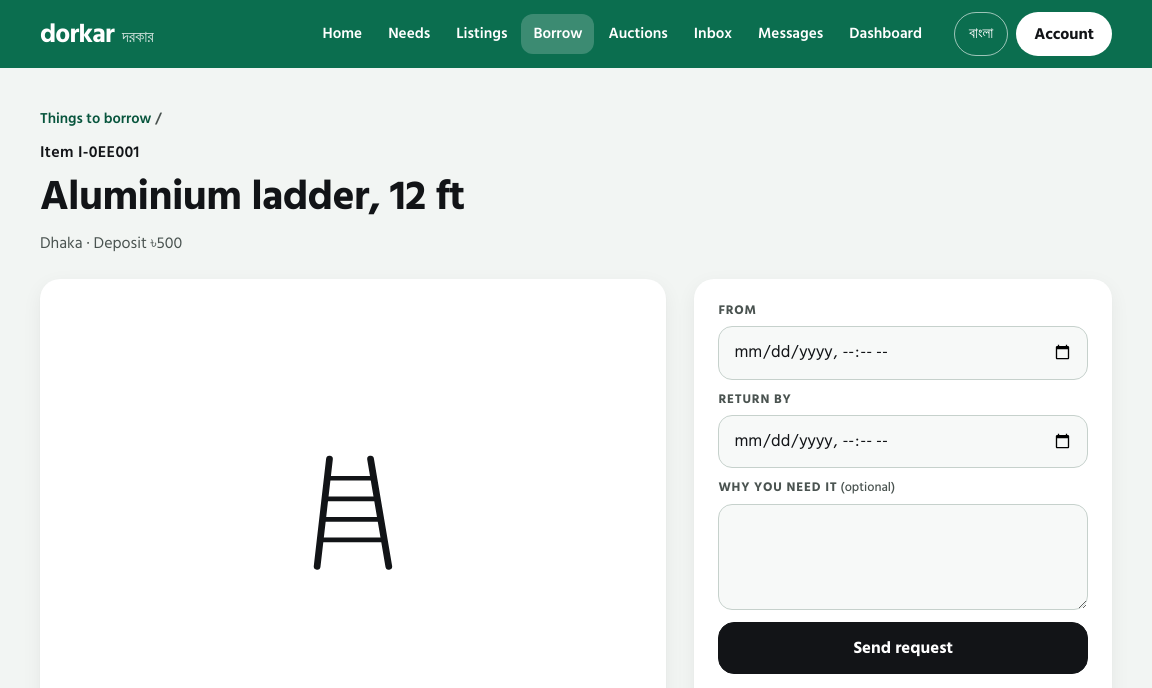
it: borrowing › explains when the lender’s requirements aren’t met
This screenshot has width=1152, height=688.
Step 1. Type "2026-10-18T09:00" into the field labelled "From" → (903, 353), box left=719, top=327, right=1087, bottom=378
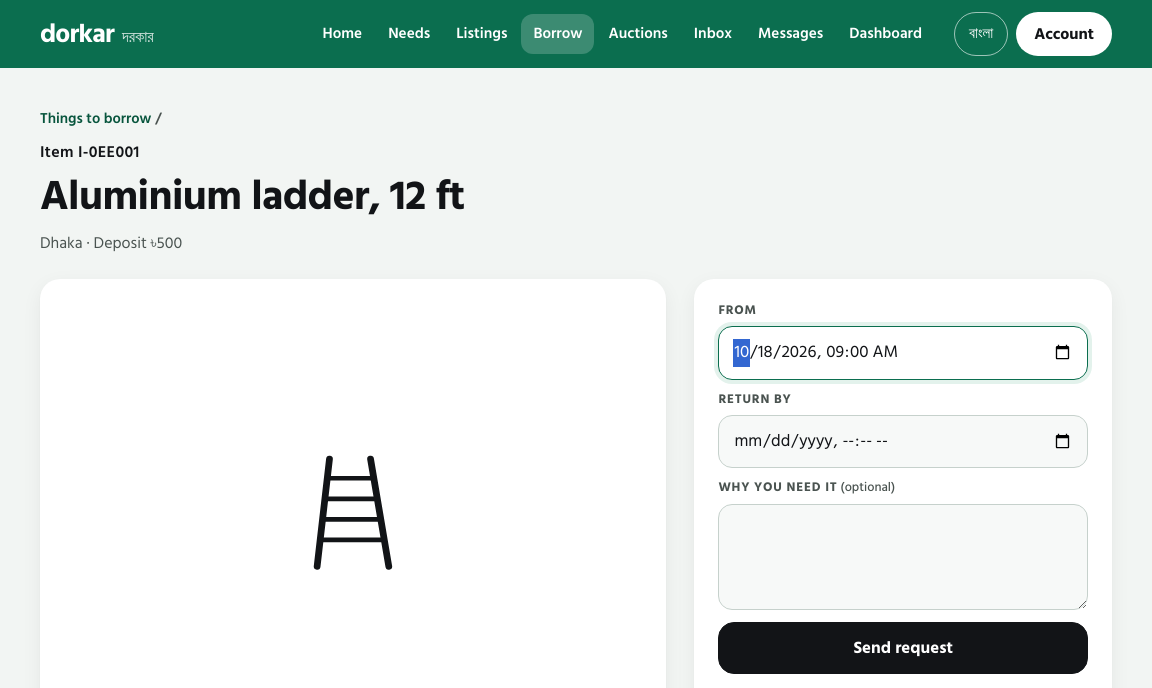
Step 2. Type "2026-10-20T09:00" into the field labelled "Return by" → (903, 442), box left=719, top=416, right=1087, bottom=467
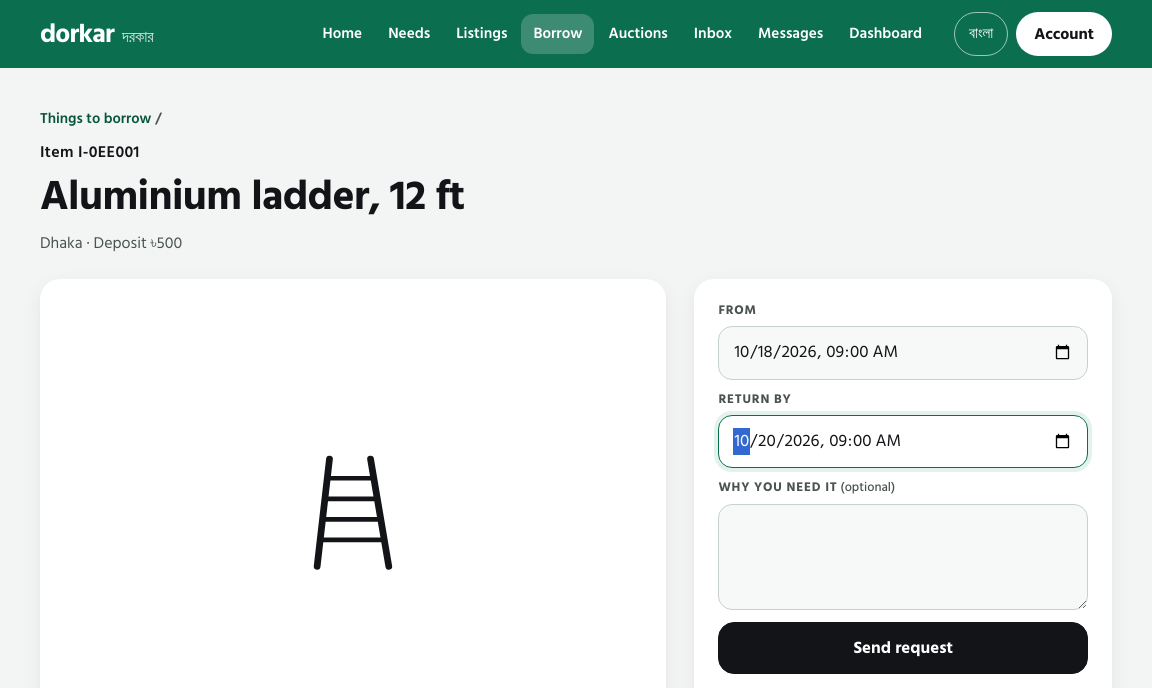
Step 3. Click the button "Send request" → (903, 648), box left=718, top=622, right=1088, bottom=674
(page scrolled)
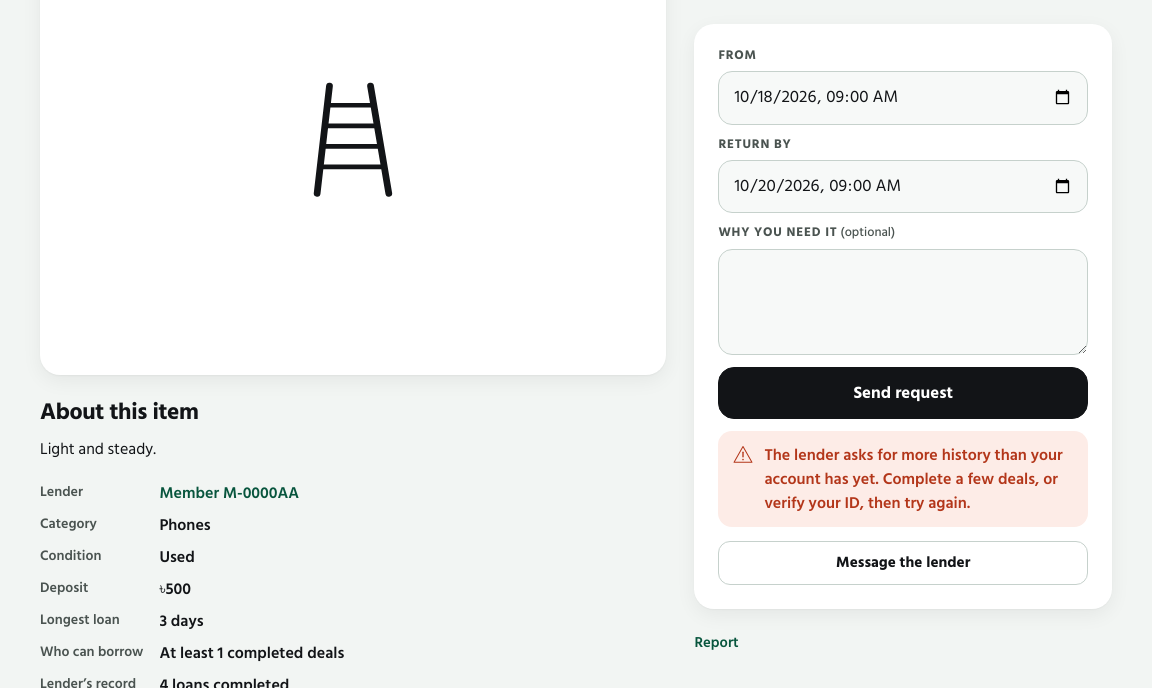
Expected: the message shows "asks for more history", left=764, top=442, right=1063, bottom=516
